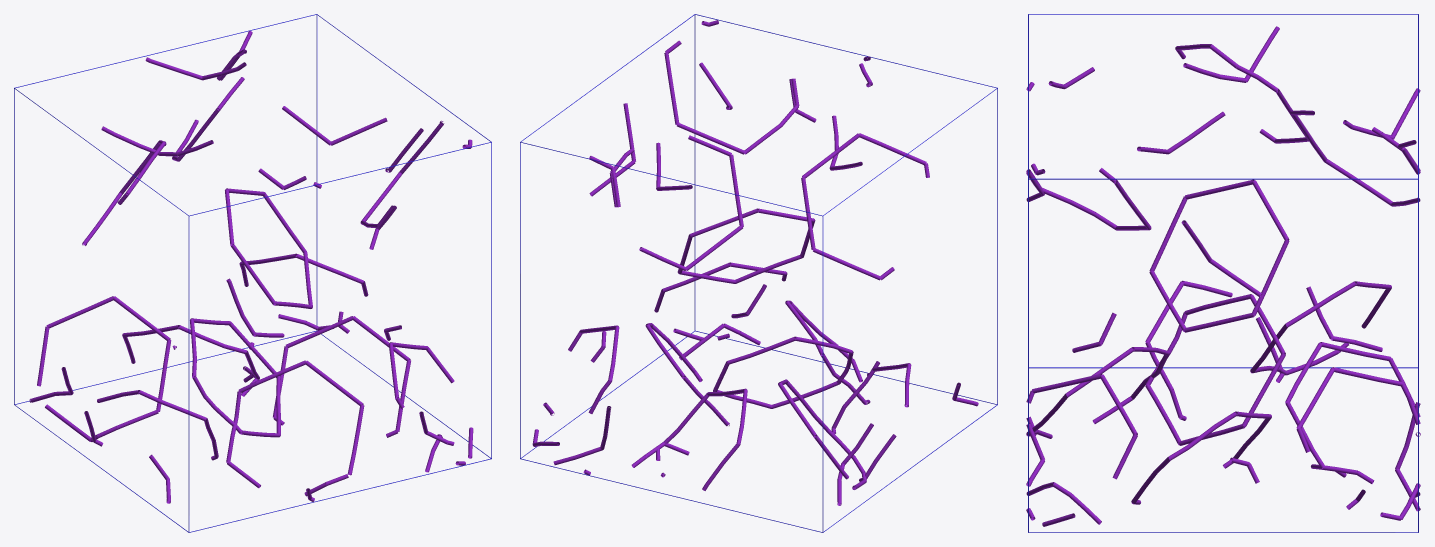
File: box_dislocation.glb
3 renders of one model, left to right at view 1: azimuth 30°, elevation 25°; view 2: azimuth 150°, elevation 25°; view 3: azimuth 270°, elevation 25°, orthographic. The views are drawn at different scales.
Visible parts, largest first — view 1: Shape_IndexedLineSet.001, Shape_IndexedLineSet; view 2: Shape_IndexedLineSet.001, Shape_IndexedLineSet; view 3: Shape_IndexedLineSet.001, Shape_IndexedLineSet.
Part boxes in pixels (x1,y1,x2,y2): Shape_IndexedLineSet.001: [29, 31, 473, 503]; Shape_IndexedLineSet: [14, 14, 491, 532]; Shape_IndexedLineSet.001: [532, 20, 978, 505]; Shape_IndexedLineSet: [520, 14, 997, 532]; Shape_IndexedLineSet.001: [1026, 26, 1420, 526]; Shape_IndexedLineSet: [1028, 14, 1418, 532].
Bounding box in the file's own units: 1.01 × 1.01 × 1.01.
